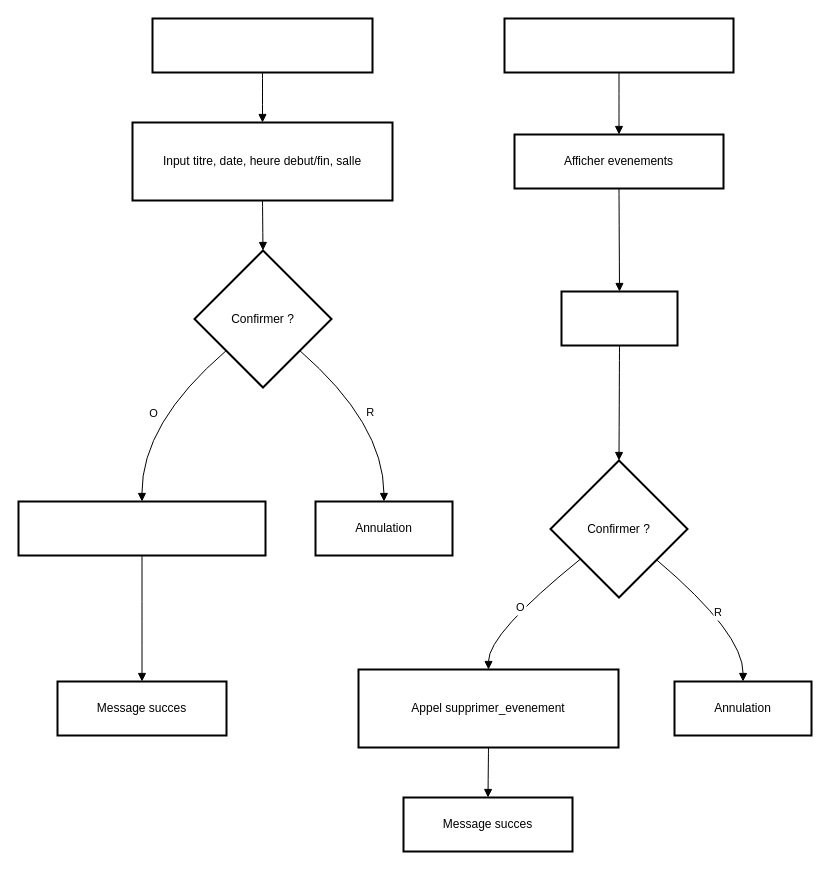
The diagram is 829 pixels wide and 869 high, and some of its shapes have lost their labels. Here are the shapes that lost their labels. From the top down, the box of each, then its label:
(151, 17, 373, 73): Creation d evenement
(503, 17, 734, 73): Suppression evenement
(560, 290, 678, 346): Input ID
(17, 500, 266, 556): Appel ajouter_evenement
